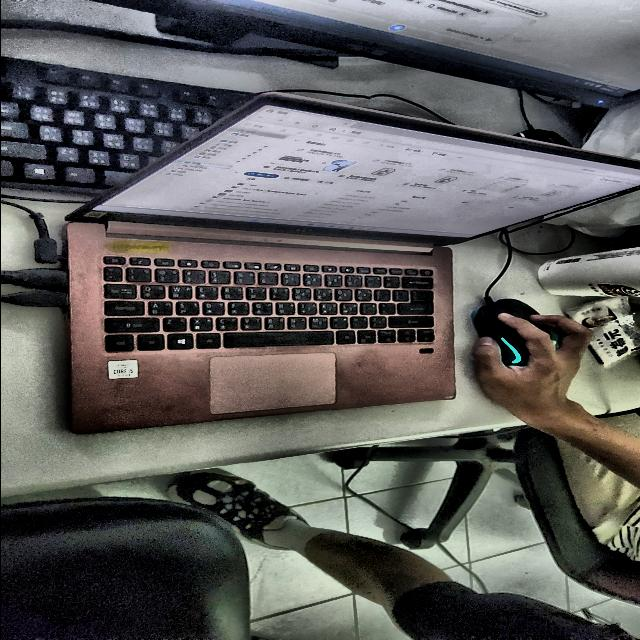Keyboard: (0, 56, 252, 194)
Laptop: (66, 93, 640, 433)
MOUSE: (472, 299, 536, 366), (530, 323, 555, 342)
Screen: (97, 0, 640, 108)
